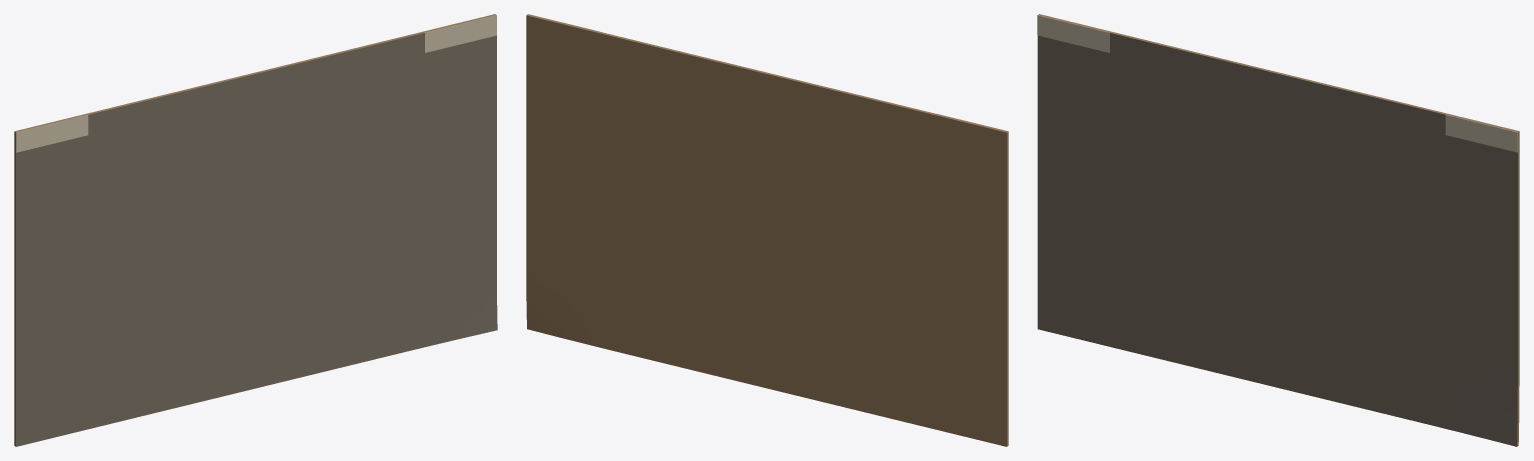
File: callsign-card-f67ec9fbef50.glb
The picture shows the model from 3 angles, left to right: view 1: azimuth 30°, elevation 25°; view 2: azimuth 150°, elevation 25°; view 3: azimuth 330°, elevation 25°; orthographic projection.
Visible parts, largest first — view 1: cover-print, paper, paper-kraft; view 2: paper-kraft; view 3: cover-print, paper, paper-kraft.
Boxes of the visible parts, <box> form: cover-print: <box>16,33,497,446</box>; paper: <box>16,15,496,152</box>; paper-kraft: <box>14,14,496,446</box>; paper-kraft: <box>526,14,1008,446</box>; cover-print: <box>1037,33,1517,446</box>; paper: <box>1037,15,1517,152</box>; paper-kraft: <box>1038,14,1519,446</box>.
Size of the model in its own units: 0.4 by 0.25 by 0.00353.
